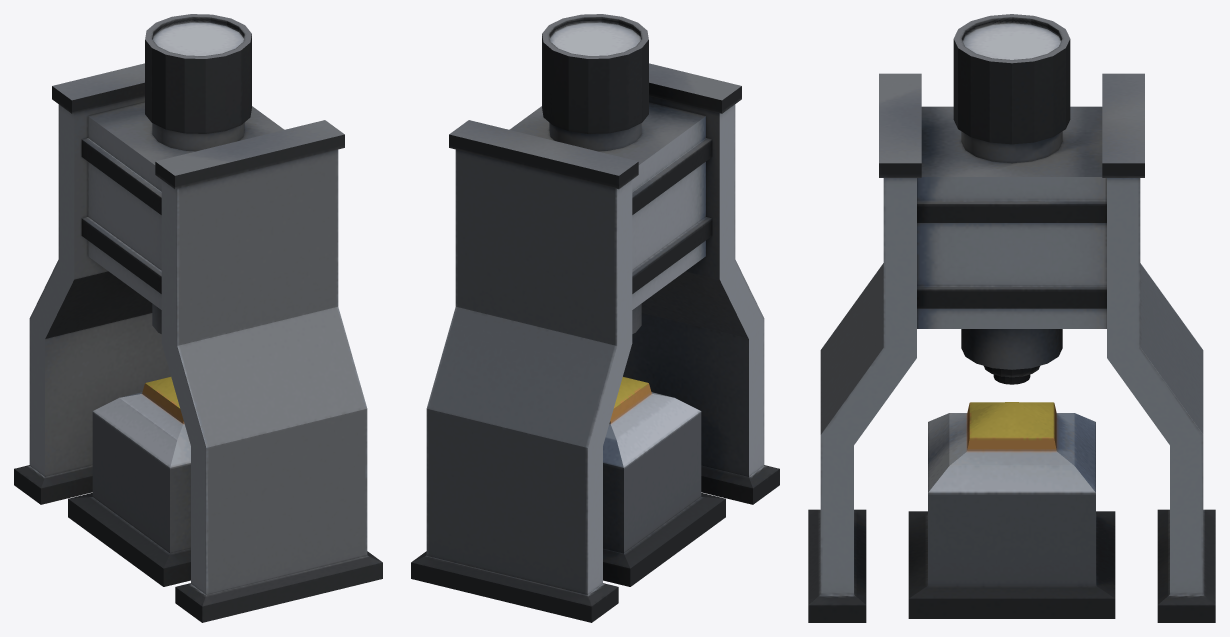
Rendered from Machine_D.FBX.
The picture shows the model from 3 angles, left to right: view 1: azimuth 30°, elevation 25°; view 2: azimuth 150°, elevation 25°; view 3: azimuth 270°, elevation 25°; orthographic projection. The views are drawn at different scales.
Visible parts, largest first — view 1: Machine_D; view 2: Machine_D; view 3: Machine_D.
Boxes of the visible parts, x1,y1,x2,y2 form: Machine_D: (14, 14, 382, 622); Machine_D: (411, 14, 779, 622); Machine_D: (808, 14, 1215, 622).
Size of the model in its own units: 33.67 by 88.24 by 60.73.
